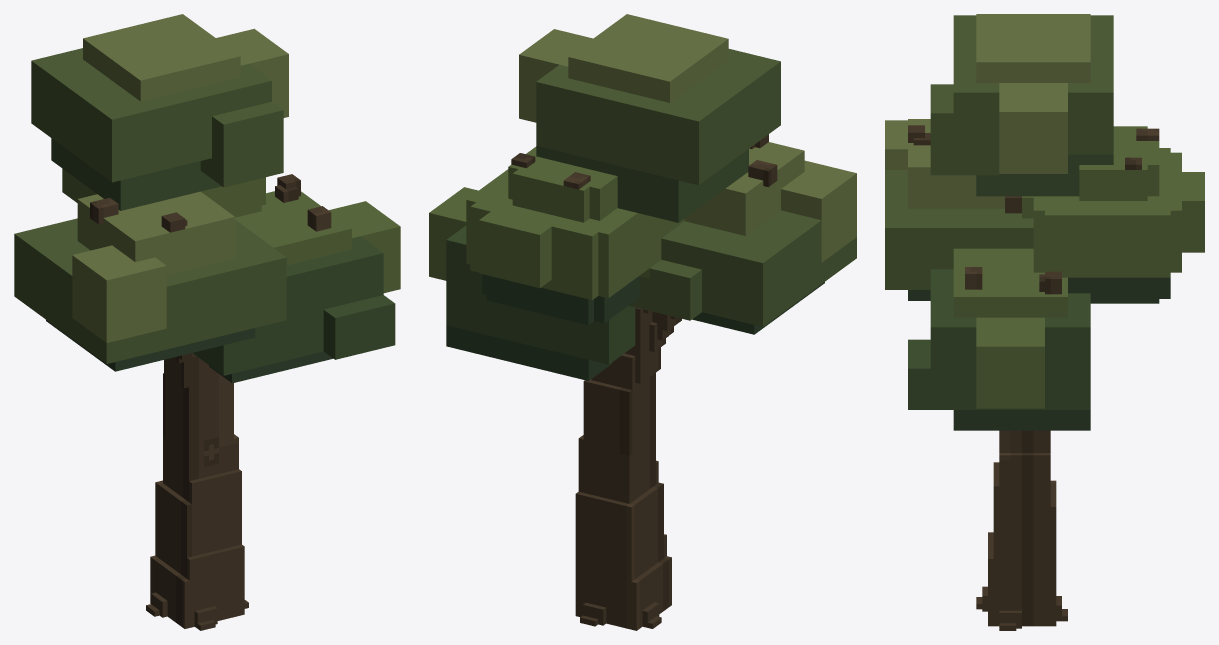
Rendered from oak_sapling.glb.
3 renders of one model, left to right at view 1: azimuth 30°, elevation 25°; view 2: azimuth 150°, elevation 25°; view 3: azimuth 270°, elevation 25°, orthographic. The views are drawn at different scales.
Visible parts, largest first — view 1: VoxelVisual; view 2: VoxelVisual; view 3: VoxelVisual.
Part boxes in pixels (box(x1,y1,x2,y2)): VoxelVisual: box(14, 14, 400, 630); VoxelVisual: box(429, 14, 856, 630); VoxelVisual: box(885, 14, 1204, 630).
Size of what is drawn, in the model's own units: 4.25 by 6.75 by 3.5.
